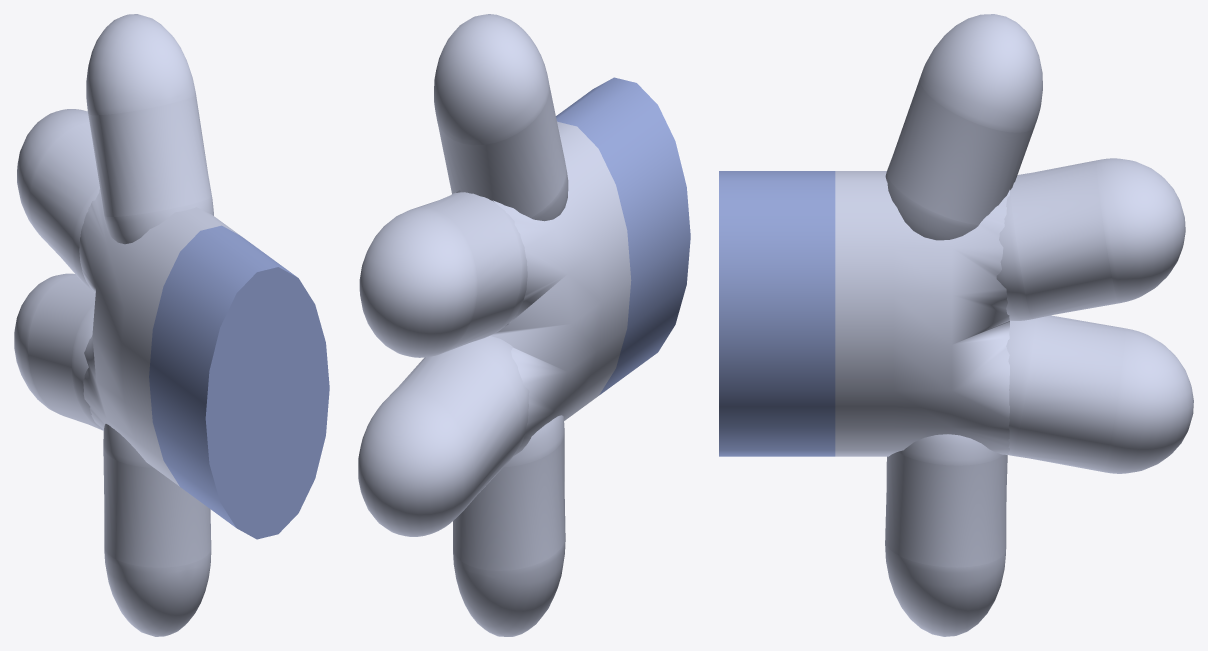
File: brazouno_Stripe.obj
3 views of the same model, side by side, from view 1: azimuth 30°, elevation 25°; view 2: azimuth 150°, elevation 25°; view 3: azimuth 270°, elevation 25° (orthographic). The views are drawn at different scales.
Visible parts, largest first — view 1: Cylinder016; view 2: Cylinder016; view 3: Cylinder016.
Boxes of the visible parts, box(x1,y1,x2,y2) form: Cylinder016: box(14, 14, 329, 636); Cylinder016: box(358, 14, 690, 636); Cylinder016: box(719, 14, 1193, 636).
Size of the model in its own units: 6.06 by 28.02 by 19.53.
